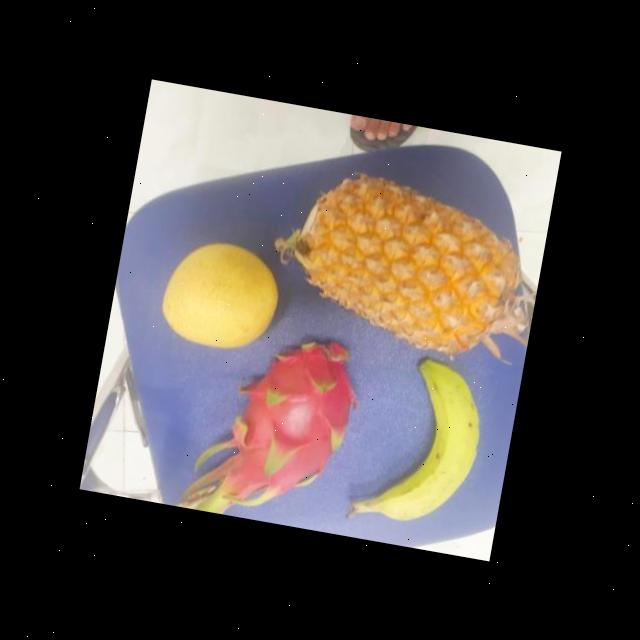banana: (359, 354, 494, 532)
pear: (156, 234, 291, 356)
pineapple: (287, 164, 538, 364)
pitaya: (203, 324, 374, 507)
